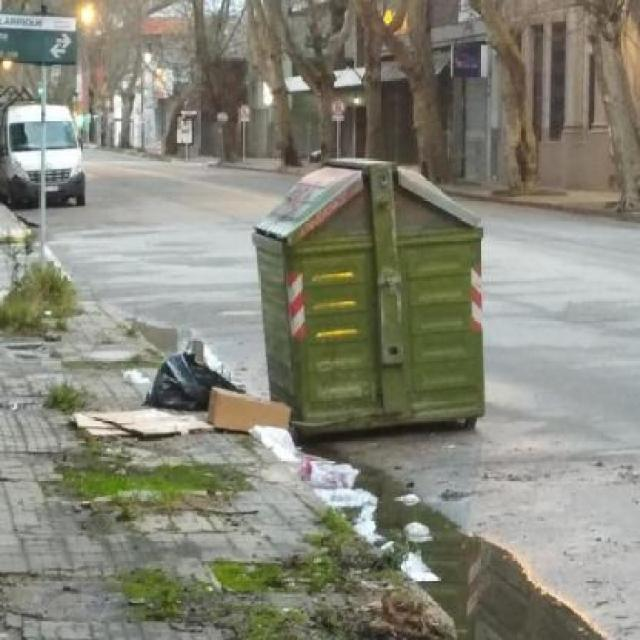garbage: (63, 302, 319, 512), (265, 422, 456, 574)
